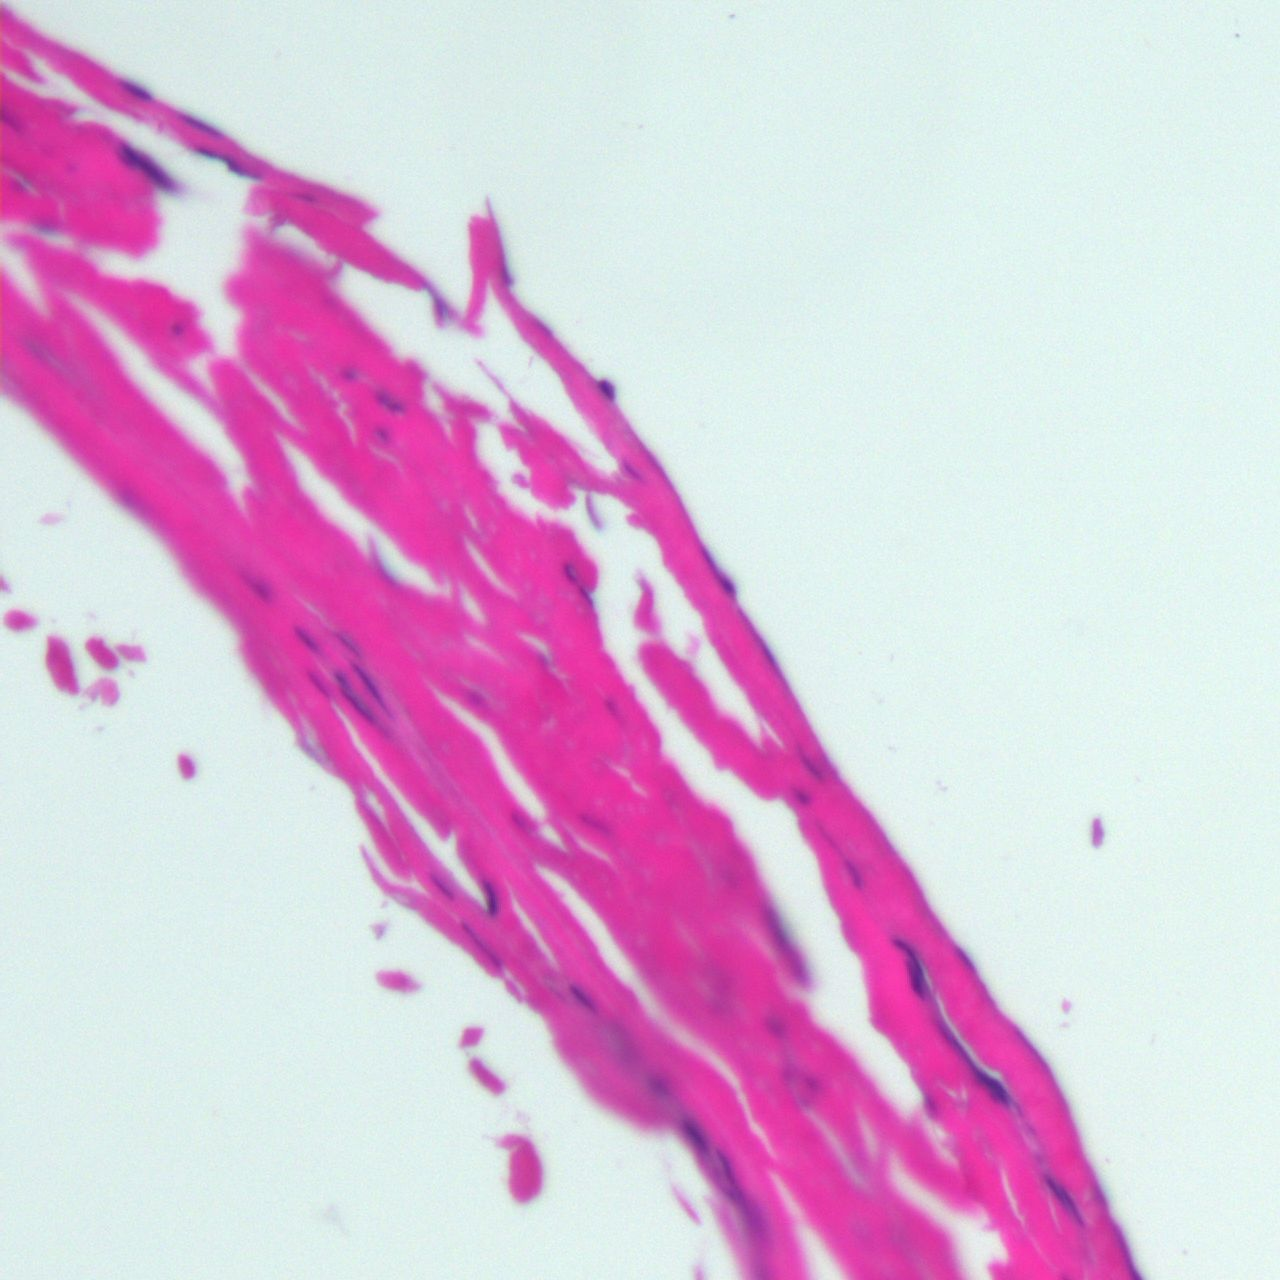nucleus-HE: (925, 1003, 1017, 1114), (747, 893, 821, 994), (704, 1149, 774, 1240), (108, 132, 183, 203), (324, 662, 387, 738), (1033, 1162, 1096, 1237), (885, 928, 942, 1001), (455, 915, 515, 980), (343, 651, 399, 719), (816, 828, 872, 892), (189, 138, 263, 185), (697, 544, 743, 604), (234, 563, 281, 612), (672, 1108, 713, 1159), (572, 806, 622, 847), (368, 381, 409, 424), (285, 617, 324, 656), (111, 72, 155, 107), (560, 563, 595, 604), (179, 109, 224, 139), (792, 745, 828, 782), (566, 982, 602, 1017), (425, 870, 459, 907), (641, 1070, 670, 1099), (760, 1008, 787, 1039), (594, 376, 621, 404), (599, 692, 622, 723), (483, 877, 498, 917), (459, 685, 486, 704), (369, 425, 390, 445), (338, 362, 360, 379), (790, 785, 809, 804), (169, 319, 188, 338)
